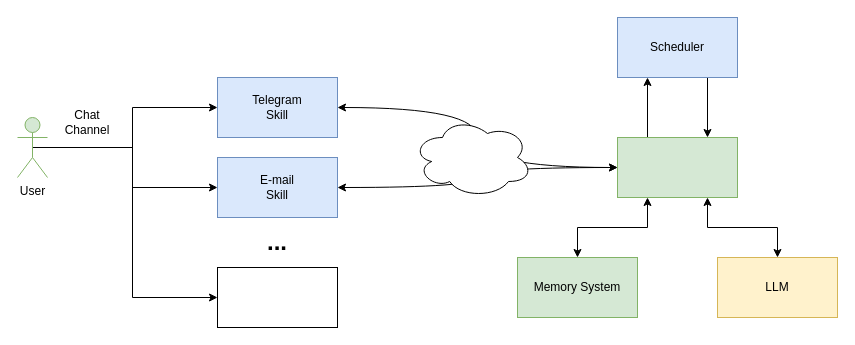
Some shapes in this 855 by 345 pixel diagram are drawn without their labels. The centre of each missing label's shape, as x and y in pixels:
"Agent" goes at point (677, 167).
"Internet" goes at point (472, 157).
"WhatsApp" goes at point (277, 297).
